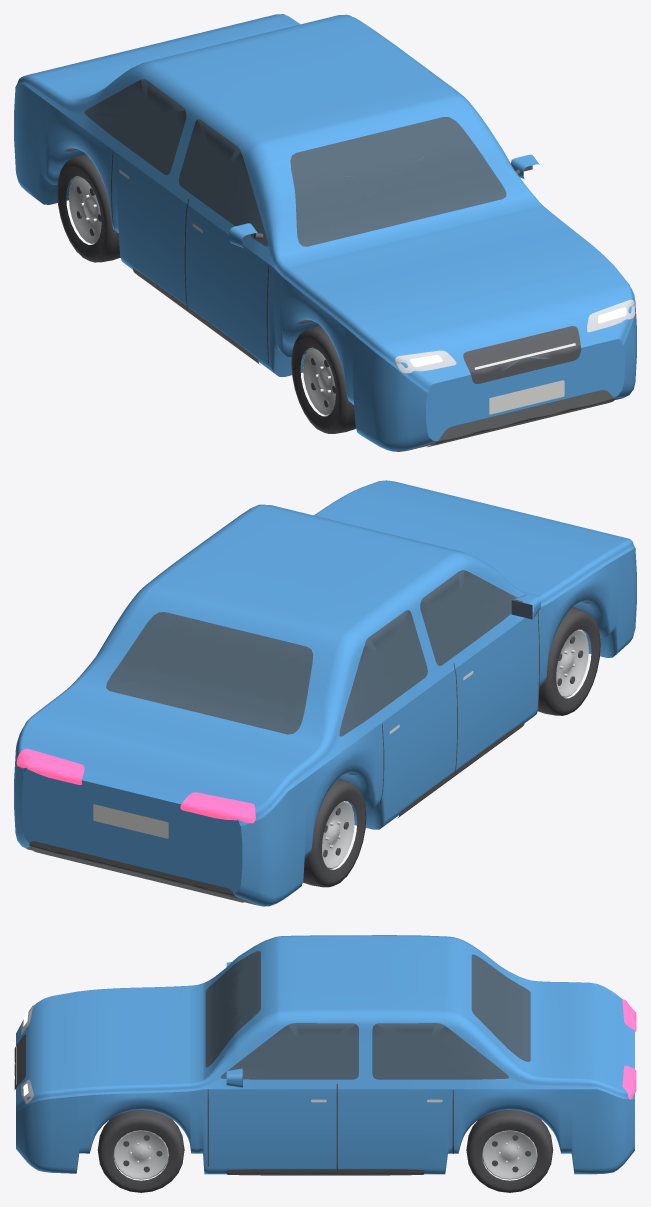
Rendered from car-sedan.glb.
The picture shows the model from 3 angles, top to bottom: view 1: azimuth 30°, elevation 25°; view 2: azimuth 150°, elevation 25°; view 3: azimuth 270°, elevation 25°; orthographic projection. The views are drawn at different scales.
Parts seen in each view (by area): view 1: car-sedan; view 2: car-sedan; view 3: car-sedan.
Boxes of the visible parts, box(x1,y1,x2,y2) form: car-sedan: box(14, 14, 636, 451); car-sedan: box(14, 480, 636, 906); car-sedan: box(14, 935, 636, 1192).
Bounding box in the file's own units: 2.1 × 1.45 × 4.73.
